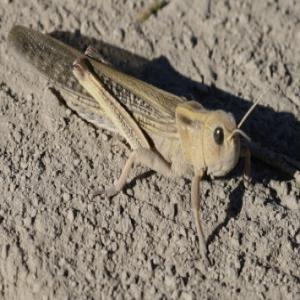locust: (12, 22, 244, 237)
